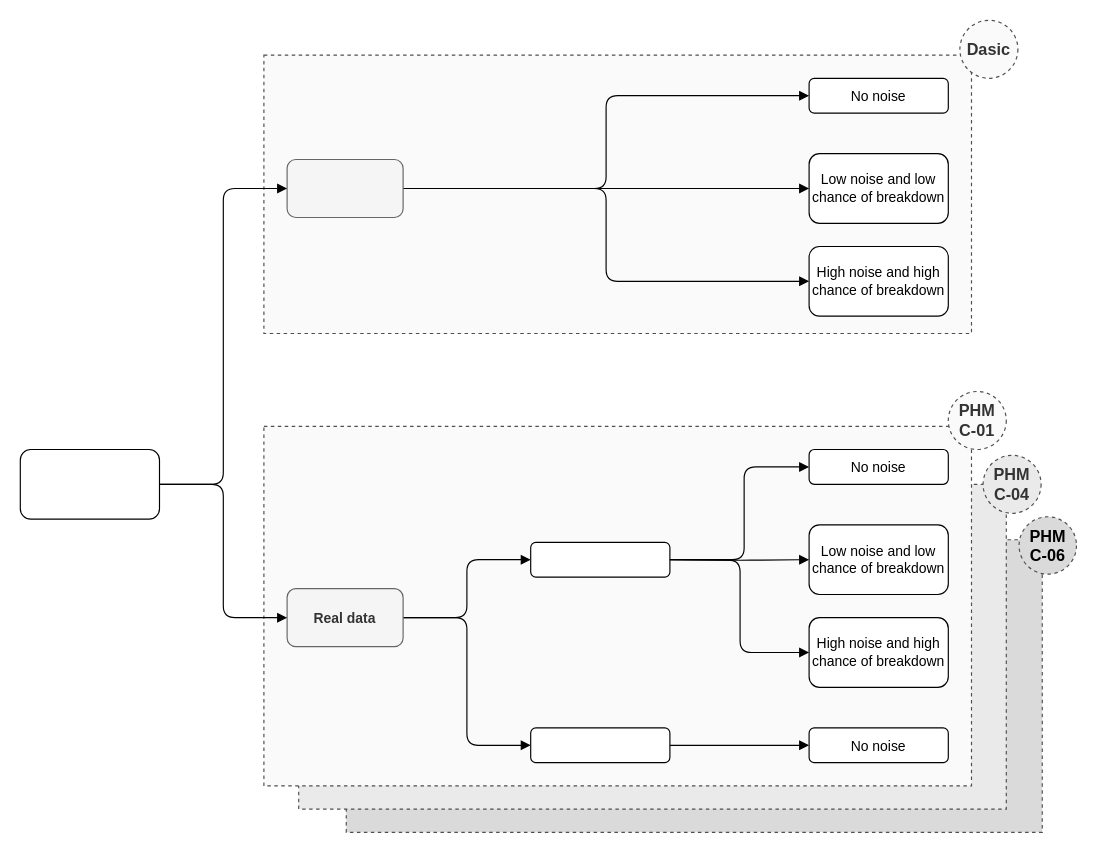
The diagram is 1097 pixels wide and 853 high, and some of its shapes have lost their labels. Here are the shapes that lost their labels. From the top down, the centre of each, then its label:
At (x=344, y=187): "Simulated".
At (x=89, y=483): "Environments".
At (x=600, y=559): "Uni-variate state".
At (x=600, y=745): "Multi-variate state".
